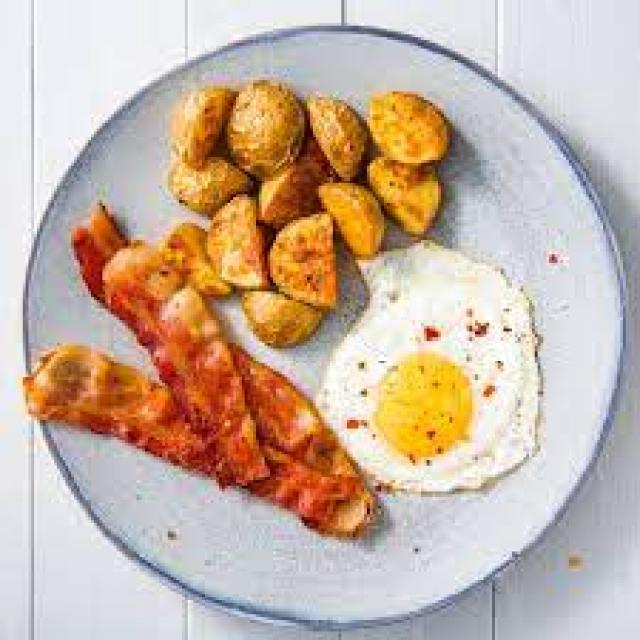Bacon: (25, 345, 202, 464), (251, 445, 375, 536)
Egg: (316, 241, 540, 492)
